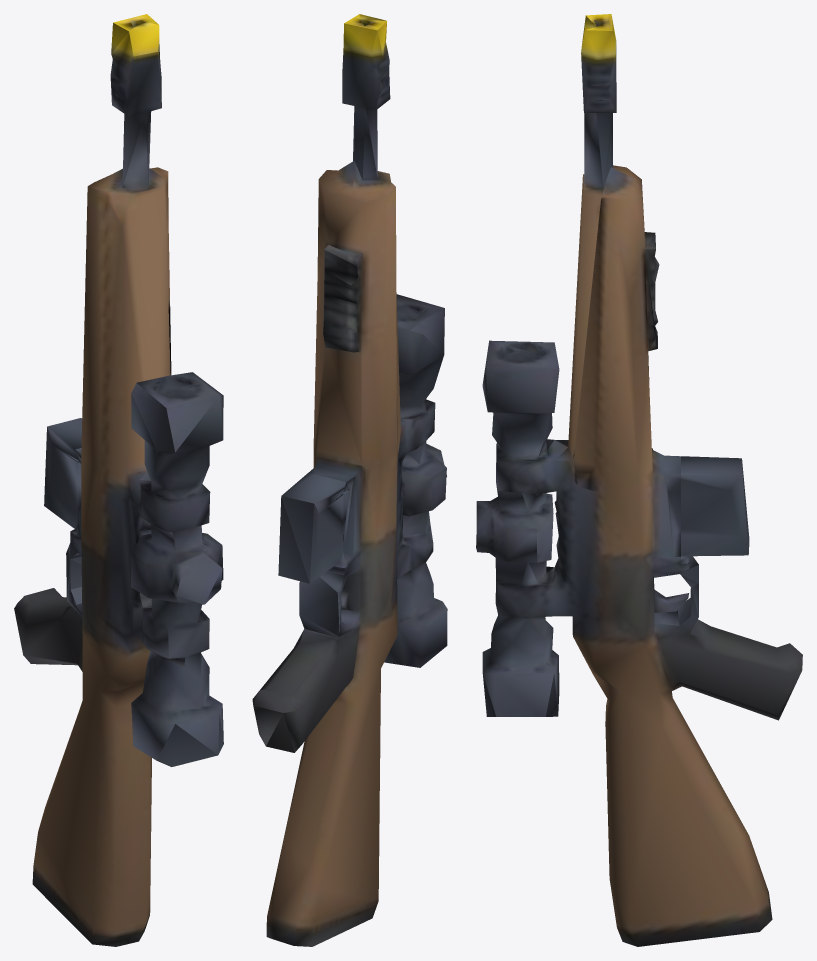
The model's file is longbow.glb.
3 views of the same model, side by side, from view 1: azimuth 30°, elevation 25°; view 2: azimuth 150°, elevation 25°; view 3: azimuth 270°, elevation 25° (orthographic). The views are drawn at different scales.
Visible parts, largest first — view 1: longbow, part_mag; view 2: longbow, part_mag; view 3: longbow, part_mag.
Boxes of the visible parts, bbox=[...] form: longbow: bbox=[14, 14, 223, 946]; part_mag: bbox=[44, 418, 82, 537]; longbow: bbox=[252, 14, 447, 946]; part_mag: bbox=[278, 473, 348, 583]; longbow: bbox=[476, 14, 802, 946]; part_mag: bbox=[681, 456, 749, 563].
Bounding box in the file's own units: 0.09 × 1.04 × 0.3359.
1 material, 1 textured.
